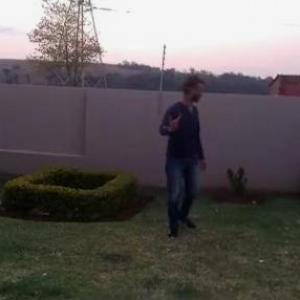takeoff-hand: (160, 107, 184, 133)
